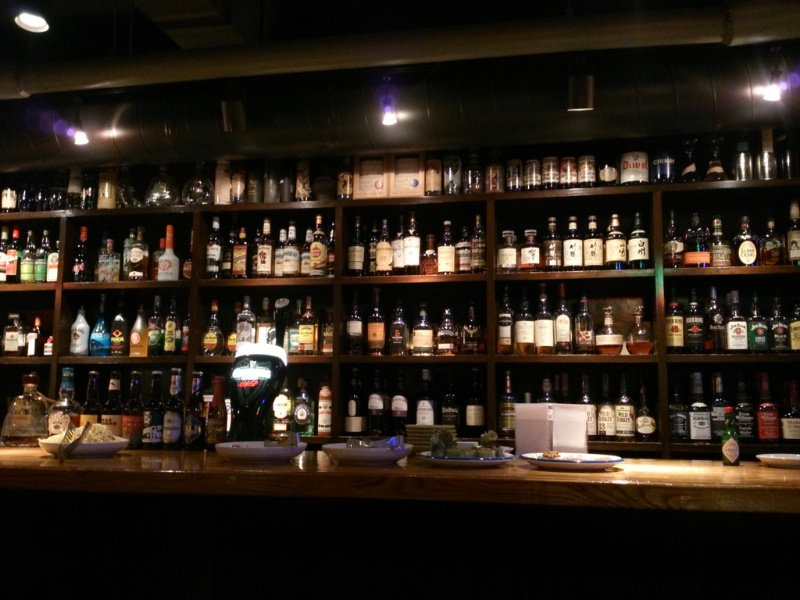wine: (1, 127, 799, 497)
